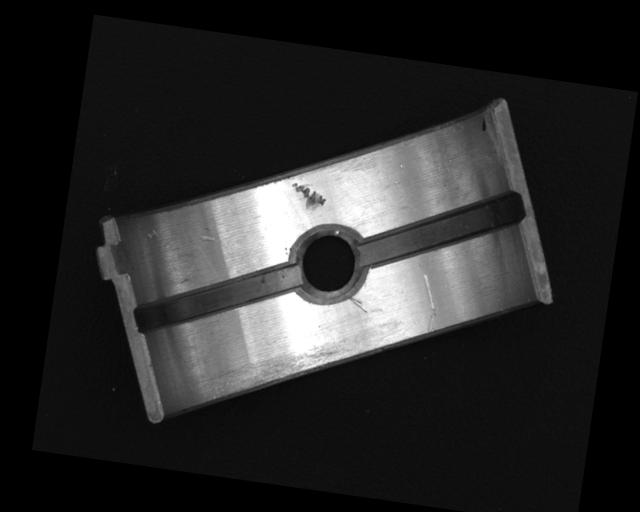blot: (479, 116, 487, 132)
bruise: (287, 182, 327, 213), (198, 233, 221, 245)
gap: (358, 174, 525, 287), (131, 246, 300, 352)
hole: (288, 219, 372, 308)
nick: (406, 263, 442, 336), (346, 296, 369, 313)
scratch: (208, 318, 369, 421)
